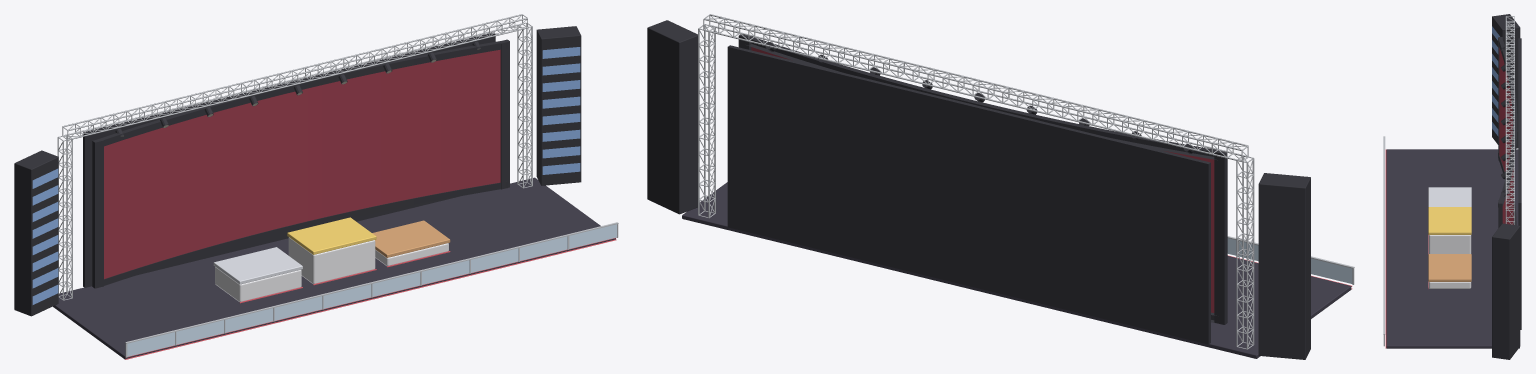
3 renders of one model, left to right at view 1: azimuth 30°, elevation 25°; view 2: azimuth 150°, elevation 25°; view 3: azimuth 270°, elevation 25°, orthographic. The views are drawn at different scales.
Visible parts, largest first — view 1: pd_screen, pd_frame, pd_deck, pd_truss, pd_glass, pd_ads, pd_white, pd_gold, pd_silver, pd_bronze, pd_led; view 2: pd_frame, pd_truss, pd_deck, pd_glass, pd_screen; view 3: pd_deck, pd_frame, pd_truss, pd_screen, pd_bronze, pd_gold, pd_white, pd_silver, pd_ads, pd_led.
Boxes of the visible parts, x1,y1,x2,y2 form: pd_screen: [104, 49, 500, 278]; pd_frame: [14, 26, 581, 316]; pd_deck: [53, 177, 615, 359]; pd_truss: [57, 14, 618, 357]; pd_glass: [127, 224, 616, 356]; pd_ads: [32, 47, 580, 304]; pd_white: [215, 237, 448, 301]; pd_gold: [287, 217, 376, 254]; pd_silver: [213, 247, 302, 284]; pd_bronze: [372, 220, 450, 257]; pd_led: [125, 237, 616, 359]; pd_frame: [647, 20, 1310, 359]; pd_truss: [698, 14, 1354, 349]; pd_deck: [682, 182, 1351, 358]; pd_glass: [1227, 238, 1352, 283]; pd_screen: [751, 47, 1214, 312]; pd_deck: [1386, 149, 1519, 348]; pd_frame: [1492, 14, 1521, 359]; pd_truss: [1383, 16, 1514, 346]; pd_screen: [1499, 47, 1513, 224]; pd_bronze: [1428, 254, 1471, 281]; pd_gold: [1428, 207, 1471, 234]; pd_white: [1428, 235, 1471, 288]; pd_silver: [1428, 187, 1471, 206]; pd_ads: [1492, 26, 1499, 136]; pd_led: [1385, 149, 1428, 348].
Bounding box in the file's own units: 50.37 × 14.79 × 13.03.
